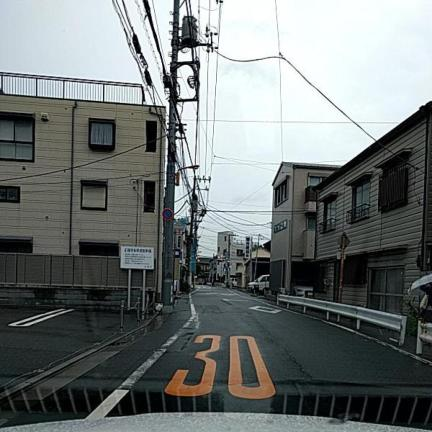Road: (0, 287, 431, 425)
